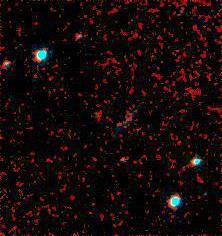star: (103, 111, 133, 141)
